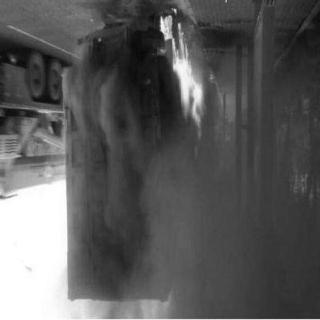Fire: (152, 4, 216, 152)
Smoke: (174, 157, 290, 310)
